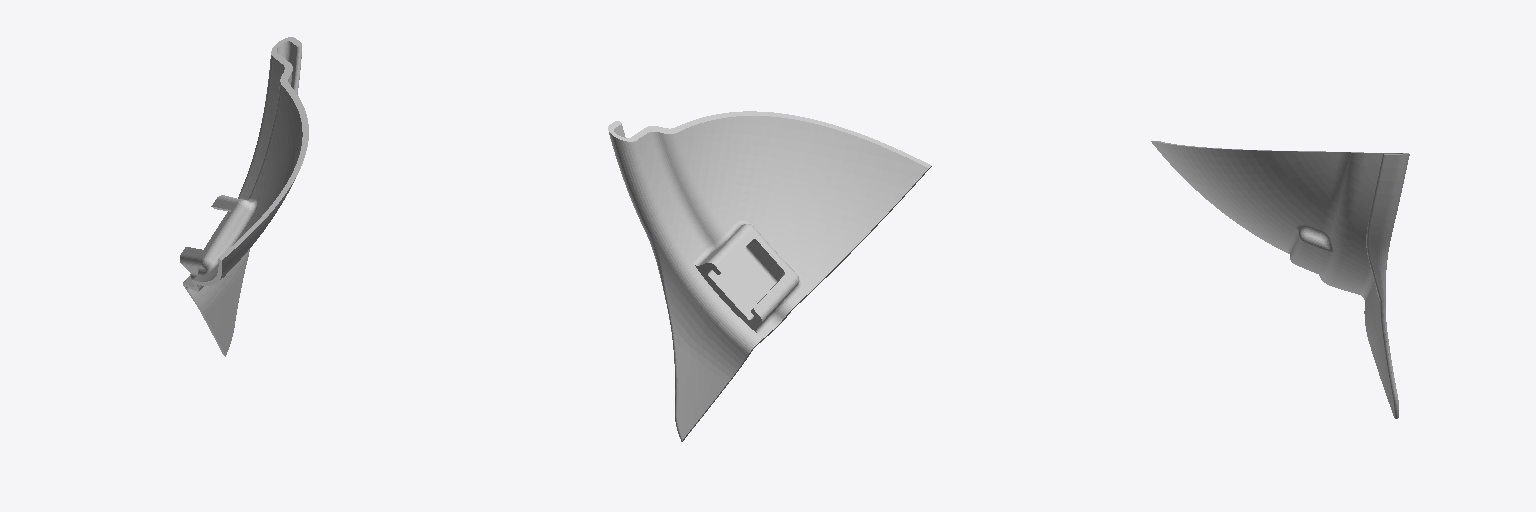
Rendered from Body13.obj.
3 views of the same model, side by side, from view 1: azimuth 30°, elevation 25°; view 2: azimuth 150°, elevation 25°; view 3: azimuth 270°, elevation 25° (orthographic).
Parts seen in each view (by area): view 1: Body13; view 2: Body13; view 3: Body13.
Boxes of the visible parts, x1,y1,x2,y2 form: Body13: [180, 37, 308, 356]; Body13: [608, 111, 931, 441]; Body13: [1151, 141, 1409, 418].
Size of the model in its own units: 0.8428 by 1.22 by 0.9541.